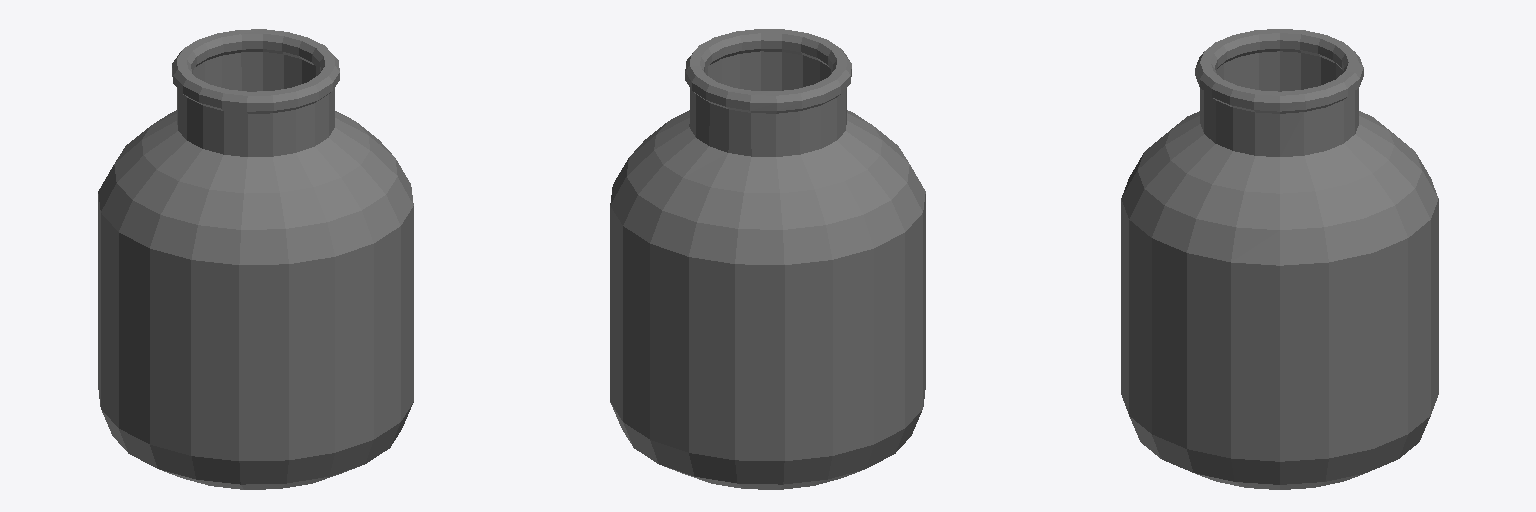
The model's file is Jar.obj.
3 renders of one model, left to right at view 1: azimuth 30°, elevation 25°; view 2: azimuth 150°, elevation 25°; view 3: azimuth 270°, elevation 25°, orthographic.
Parts seen in each view (by area): view 1: Jar; view 2: Jar; view 3: Jar.
Boxes of the visible parts, x1,y1,x2,y2 form: Jar: [98, 29, 413, 489]; Jar: [610, 29, 925, 489]; Jar: [1121, 29, 1438, 489].
Bounding box in the file's own units: 2 × 2.69 × 2.